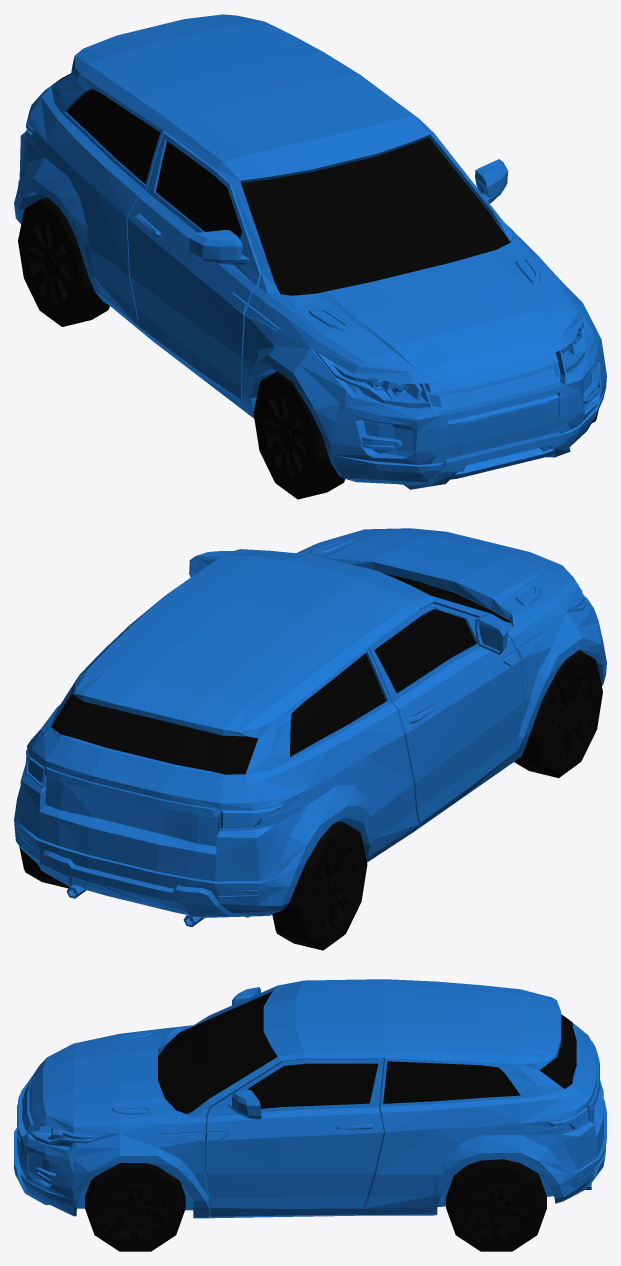
The model's file is SM_car.fbx.
3 views of the same model, one above another, from view 1: azimuth 30°, elevation 25°; view 2: azimuth 150°, elevation 25°; view 3: azimuth 270°, elevation 25° (orthographic). The views are drawn at different scales.
Parts seen in each view (by area): view 1: car, hood, door1, Cylinder_4, Cylinder, door3, door2; view 2: car, door3, door1, hood, Cylinder_4, Cylinder; view 3: car, door2, hood, Cylinder_4, Cylinder_1, door3.
Part boxes in pixels (left/top/right/bottom): car: left=14, top=21, right=606, bottom=489; hood: left=262, top=233, right=578, bottom=371; door1: left=127, top=132, right=261, bottom=412; Cylinder_4: left=18, top=197, right=109, bottom=326; Cylinder: left=253, top=371, right=345, bottom=499; door3: left=53, top=14, right=263, bottom=84; door2: left=475, top=159, right=510, bottom=228; car: left=14, top=549, right=606, bottom=926; door3: left=39, top=668, right=264, bottom=881; door1: left=368, top=603, right=523, bottom=828; hood: left=296, top=528, right=578, bottom=632; Cylinder_4: left=19, top=821, right=367, bottom=950; Cylinder: left=514, top=650, right=602, bottom=778; car: left=14, top=979, right=606, bottom=1218; door2: left=205, top=1059, right=383, bottom=1216; hood: left=43, top=1025, right=193, bottom=1126; Cylinder_4: left=446, top=1159, right=546, bottom=1251; Cylinder_1: left=85, top=1163, right=185, bottom=1251; door3: left=521, top=989, right=603, bottom=1156.
Size of the model in its own units: 224 by 167 by 478.
